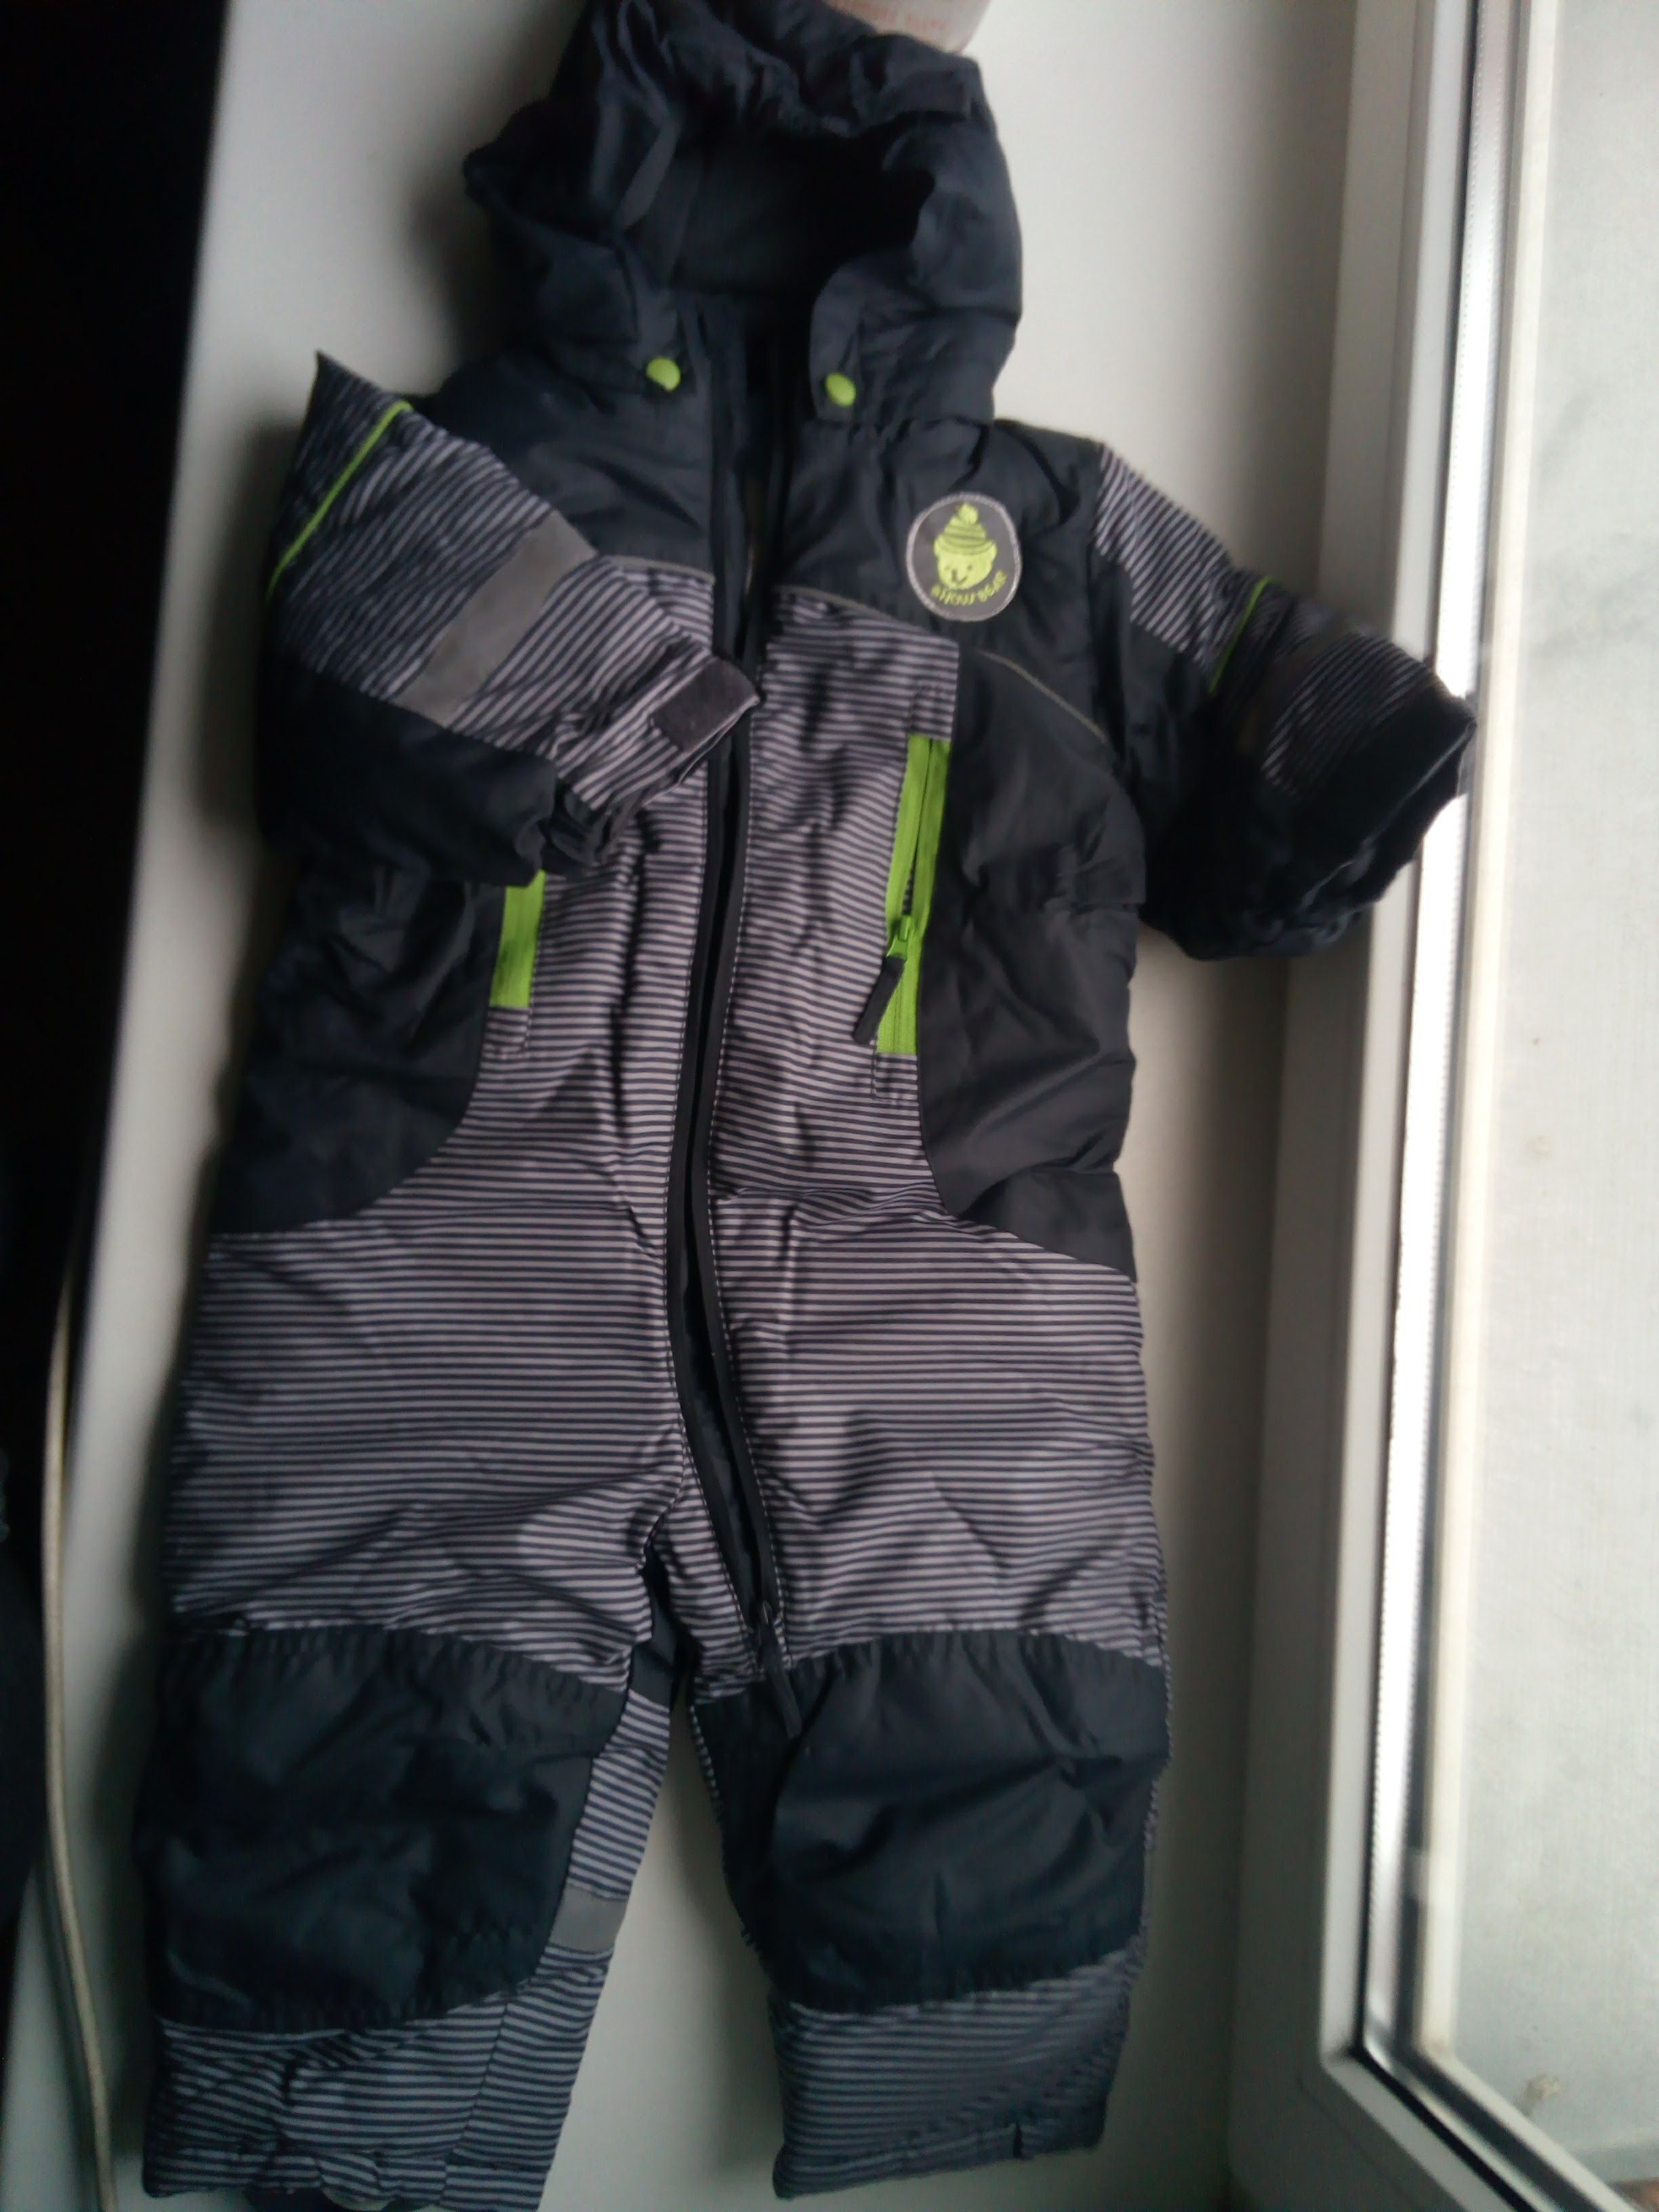clothes: (141, 0, 1457, 2212)
